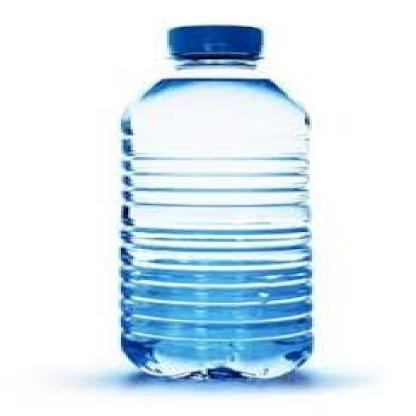trash: (120, 25, 311, 377)
